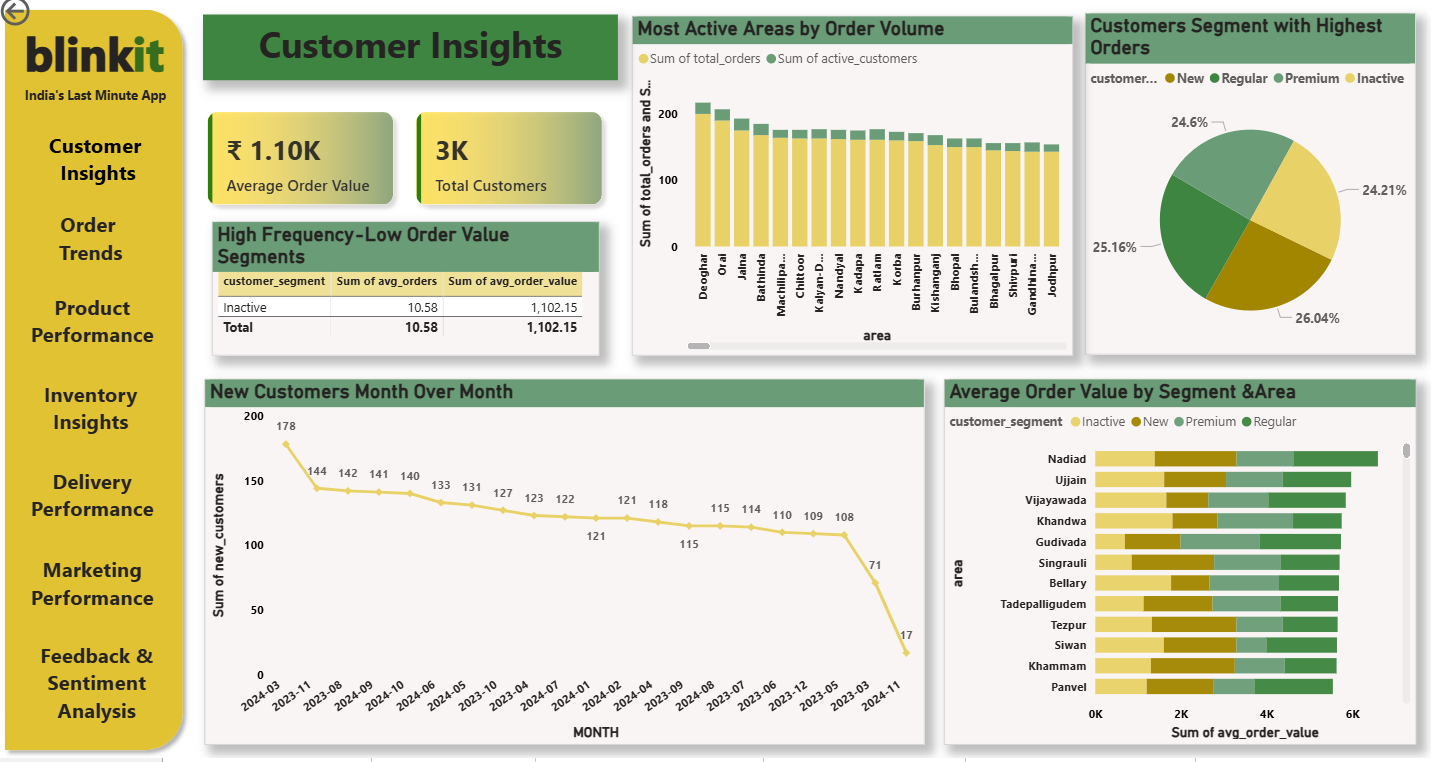

The dashboard page shown, as its layout file describes it:
{"tool":"powerbi","page":{"name":"Customer Insights","canvas":[1500,800],"ordinal":0},"visuals":[{"type":"shape","box":[0,8.9,204.1,791.4],"z":0},{"type":"textbox","box":[16,24.8,173.9,74.5],"z":1000},{"type":"textbox","box":[19.5,92.3,170.3,30.2],"z":2000},{"type":"cardVisual","fields":{"Data":["blinkit customers.Average Order Value","blinkit customers.Total Customers"]},"box":[203.7,107.4,446.3,131.5],"z":3000},{"type":"pieChart","title":"Customers Segment with Highest Orders","fields":{"Category":["blinkit cust_segment_orders.customer_segment"],"Y":["Sum(blinkit cust_segment_orders.total_orders)"]},"box":[1137.7,22.6,345.3,356.6],"z":4000},{"type":"actionButton","box":[0,0,100,40],"z":5000},{"type":"barChart","title":"Average Order Value by Segment &Area","fields":{"Category":["blinkit avg_value_segment_area.area"],"Y":["Sum(blinkit avg_value_segment_area.avg_order_value)"],"Series":["blinkit avg_value_segment_area.customer_segment"]},"box":[989.9,404.6,493.2,382.1],"z":6000},{"type":"columnChart","title":"Most Active Areas by Order Volume","fields":{"Category":["blinkit active_customers_area.area"],"Y":["Sum(blinkit active_customers_area.total_orders)","Sum(blinkit active_customers_area.active_customers)"]},"box":[664.2,24.5,460.4,354.7],"z":7000},{"type":"lineChart","title":"New Customers Month Over Month","fields":{"Category":["blinkit new_customers_monthly.MONTH"],"Y":["Sum(blinkit new_customers_monthly.new_customers)"]},"box":[217.1,404.6,752,382.1],"z":8000},{"type":"tableEx","title":"High Frequency-Low Order Value Segments","fields":{"Values":["blinkit high_freq_low_value_customers.customer_segment","Sum(blinkit high_freq_low_value_customers.avg_orders)","Sum(blinkit high_freq_low_value_customers.avg_order_value)"]},"box":[225.4,239.6,404.6,140.2],"z":9000},{"type":"textbox","box":[7.1,140.2,191.6,81.6],"z":10000},{"type":"textbox","box":[3.5,221.8,191.6,71],"z":11000},{"type":"textbox","box":[5.3,308.8,191.6,71],"z":12000},{"type":"textbox","box":[3.5,399.3,191.6,71],"z":13000},{"type":"textbox","box":[5.3,489.8,191.6,71],"z":14000},{"type":"textbox","box":[5.3,582,191.6,71],"z":15000},{"type":"textbox","box":[8.9,672.5,191.6,99.4],"z":16000},{"type":"actionButton","box":[8.9,134.9,186.3,81.6],"z":17000},{"type":"actionButton","box":[8.9,221.8,186.3,71],"z":18000},{"type":"actionButton","box":[10.6,308.8,188.1,71],"z":19000},{"type":"actionButton","box":[5.3,404.6,189.9,65.7],"z":20000},{"type":"actionButton","box":[7.1,489.8,186.3,71],"z":21000},{"type":"actionButton","box":[7.1,582,186.3,71],"z":22000},{"type":"actionButton","box":[9.3,672.2,188.9,100],"z":23000},{"type":"textbox","box":[216.7,24.1,433.3,68.5],"z":24000}]}

Visuals, with their boxes in screenshot pixels (x1, y1, x2, y2), scaled from the page's 1500x800 canvas onto the 1431x762 screenshot:
shape: 0/8/195/761
textbox: 15/24/181/95
textbox: 19/88/181/117
cardVisual - blinkit customers.Average Order Value x blinkit customers.Total Customers: 194/102/620/228
"Customers Segment with Highest Orders" pieChart: 1085/22/1415/361
actionButton: 0/0/95/38
"Average Order Value by Segment &Area" barChart: 944/385/1415/749
"Most Active Areas by Order Volume" columnChart: 634/23/1073/361
"New Customers Month Over Month" lineChart: 207/385/925/749
"High Frequency-Low Order Value Segments" tableEx: 215/228/601/362
textbox: 7/134/190/211
textbox: 3/211/186/279
textbox: 5/294/188/362
textbox: 3/380/186/448
textbox: 5/467/188/534
textbox: 5/554/188/622
textbox: 8/641/191/735
actionButton: 8/128/186/206
actionButton: 8/211/186/279
actionButton: 10/294/190/362
actionButton: 5/385/186/448
actionButton: 7/467/185/534
actionButton: 7/554/185/622
actionButton: 9/640/189/736
textbox: 207/23/620/88
